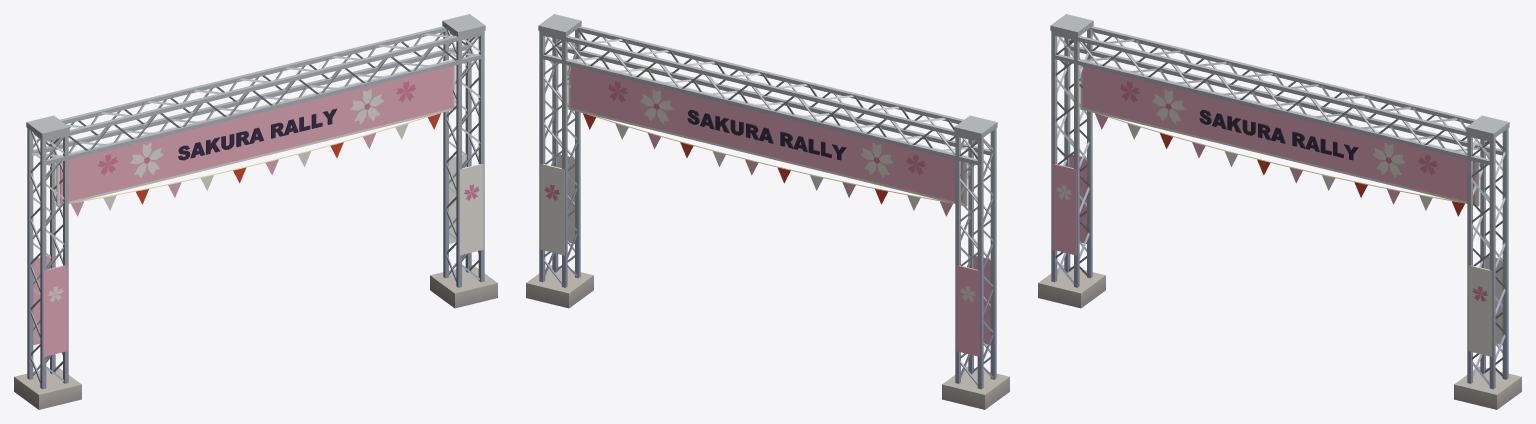
The model's file is start_arch.glb.
3 renders of one model, left to right at view 1: azimuth 30°, elevation 25°; view 2: azimuth 150°, elevation 25°; view 3: azimuth 330°, elevation 25°, orthographic.
Parts seen in each view (by area): view 1: start_arch; view 2: start_arch; view 3: start_arch.
Part boxes in pixels (bbox=[...]): start_arch: bbox=[14, 14, 497, 409]; start_arch: bbox=[526, 14, 1009, 409]; start_arch: bbox=[1038, 14, 1521, 409].
Bounding box in the file's own units: 11.2 × 6.32 × 1.05.
